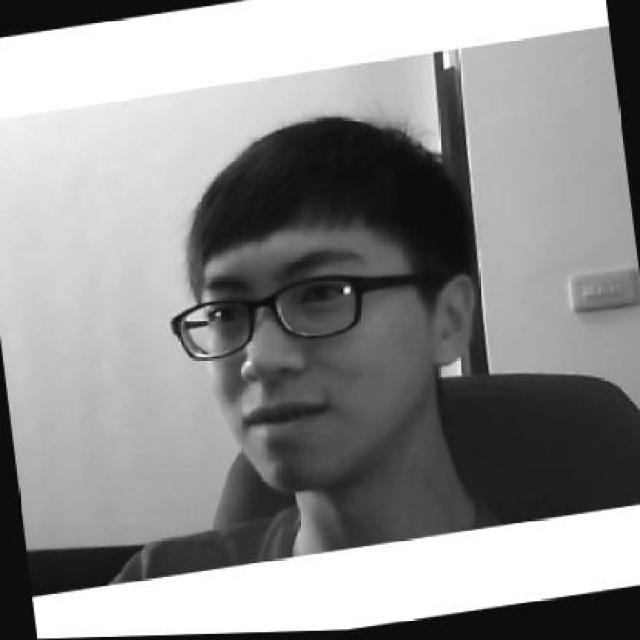attentif: (150, 97, 495, 509)
